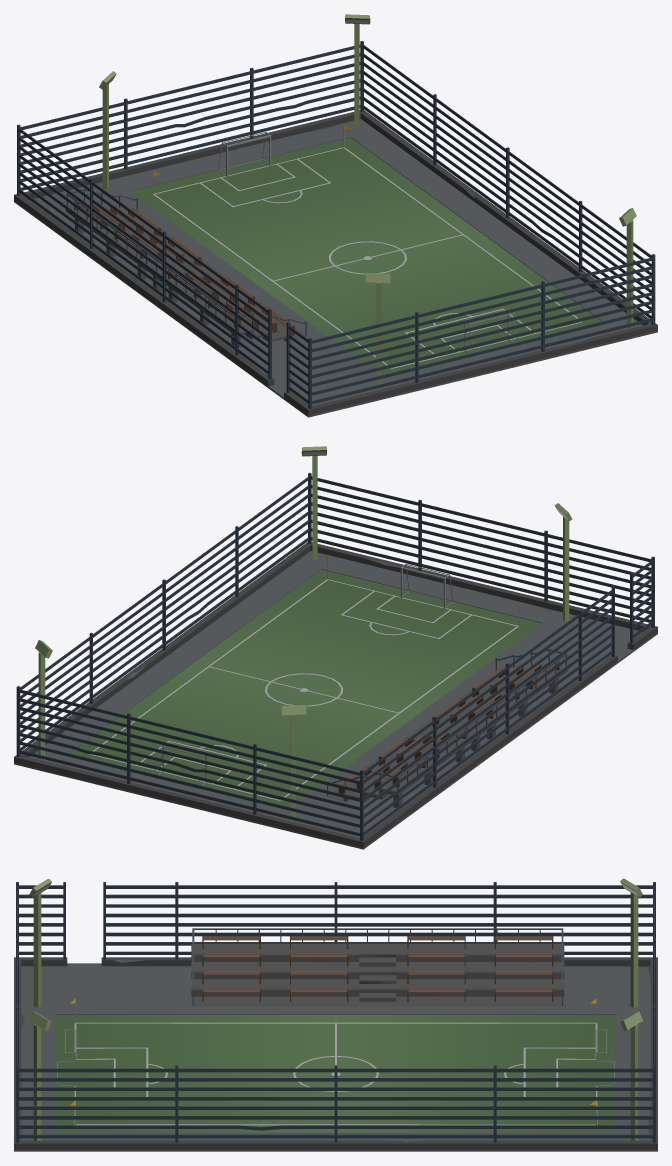
Rendered from SM_Buildings_Football_02.fbx.
The picture shows the model from 3 angles, top to bottom: view 1: azimuth 30°, elevation 25°; view 2: azimuth 150°, elevation 25°; view 3: azimuth 270°, elevation 25°; orthographic projection. The views are drawn at different scales.
Visible parts, largest first — view 1: SM_Buildings_Football_02; view 2: SM_Buildings_Football_02; view 3: SM_Buildings_Football_02.
Boxes of the visible parts, x1,y1,x2,y2 form: SM_Buildings_Football_02: [14, 14, 657, 417]; SM_Buildings_Football_02: [14, 446, 657, 849]; SM_Buildings_Football_02: [14, 878, 657, 1151].
Size of the model in its own units: 23.65 by 7.46 by 34.51.
